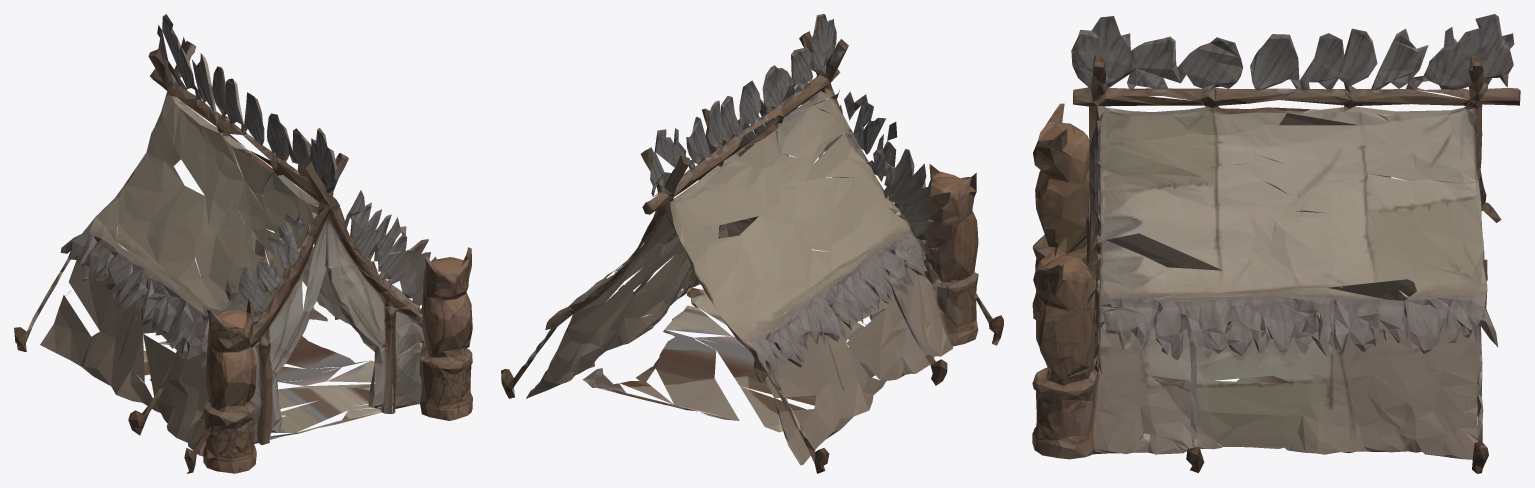
The model's file is chief_tent.glb.
The picture shows the model from 3 angles, left to right: view 1: azimuth 30°, elevation 25°; view 2: azimuth 150°, elevation 25°; view 3: azimuth 270°, elevation 25°; orthographic projection. The views are drawn at different scales.
Visible parts, largest first — view 1: geometry_0; view 2: geometry_0; view 3: geometry_0.
Part boxes in pixels (x1,y1,x2,y2): geometry_0: (14,14,472,473); geometry_0: (501,14,1003,473); geometry_0: (1032,14,1520,473).
Size of the model in its own units: 2.78 by 2.51 by 3.
Materials: 1 (1 with a texture image).
